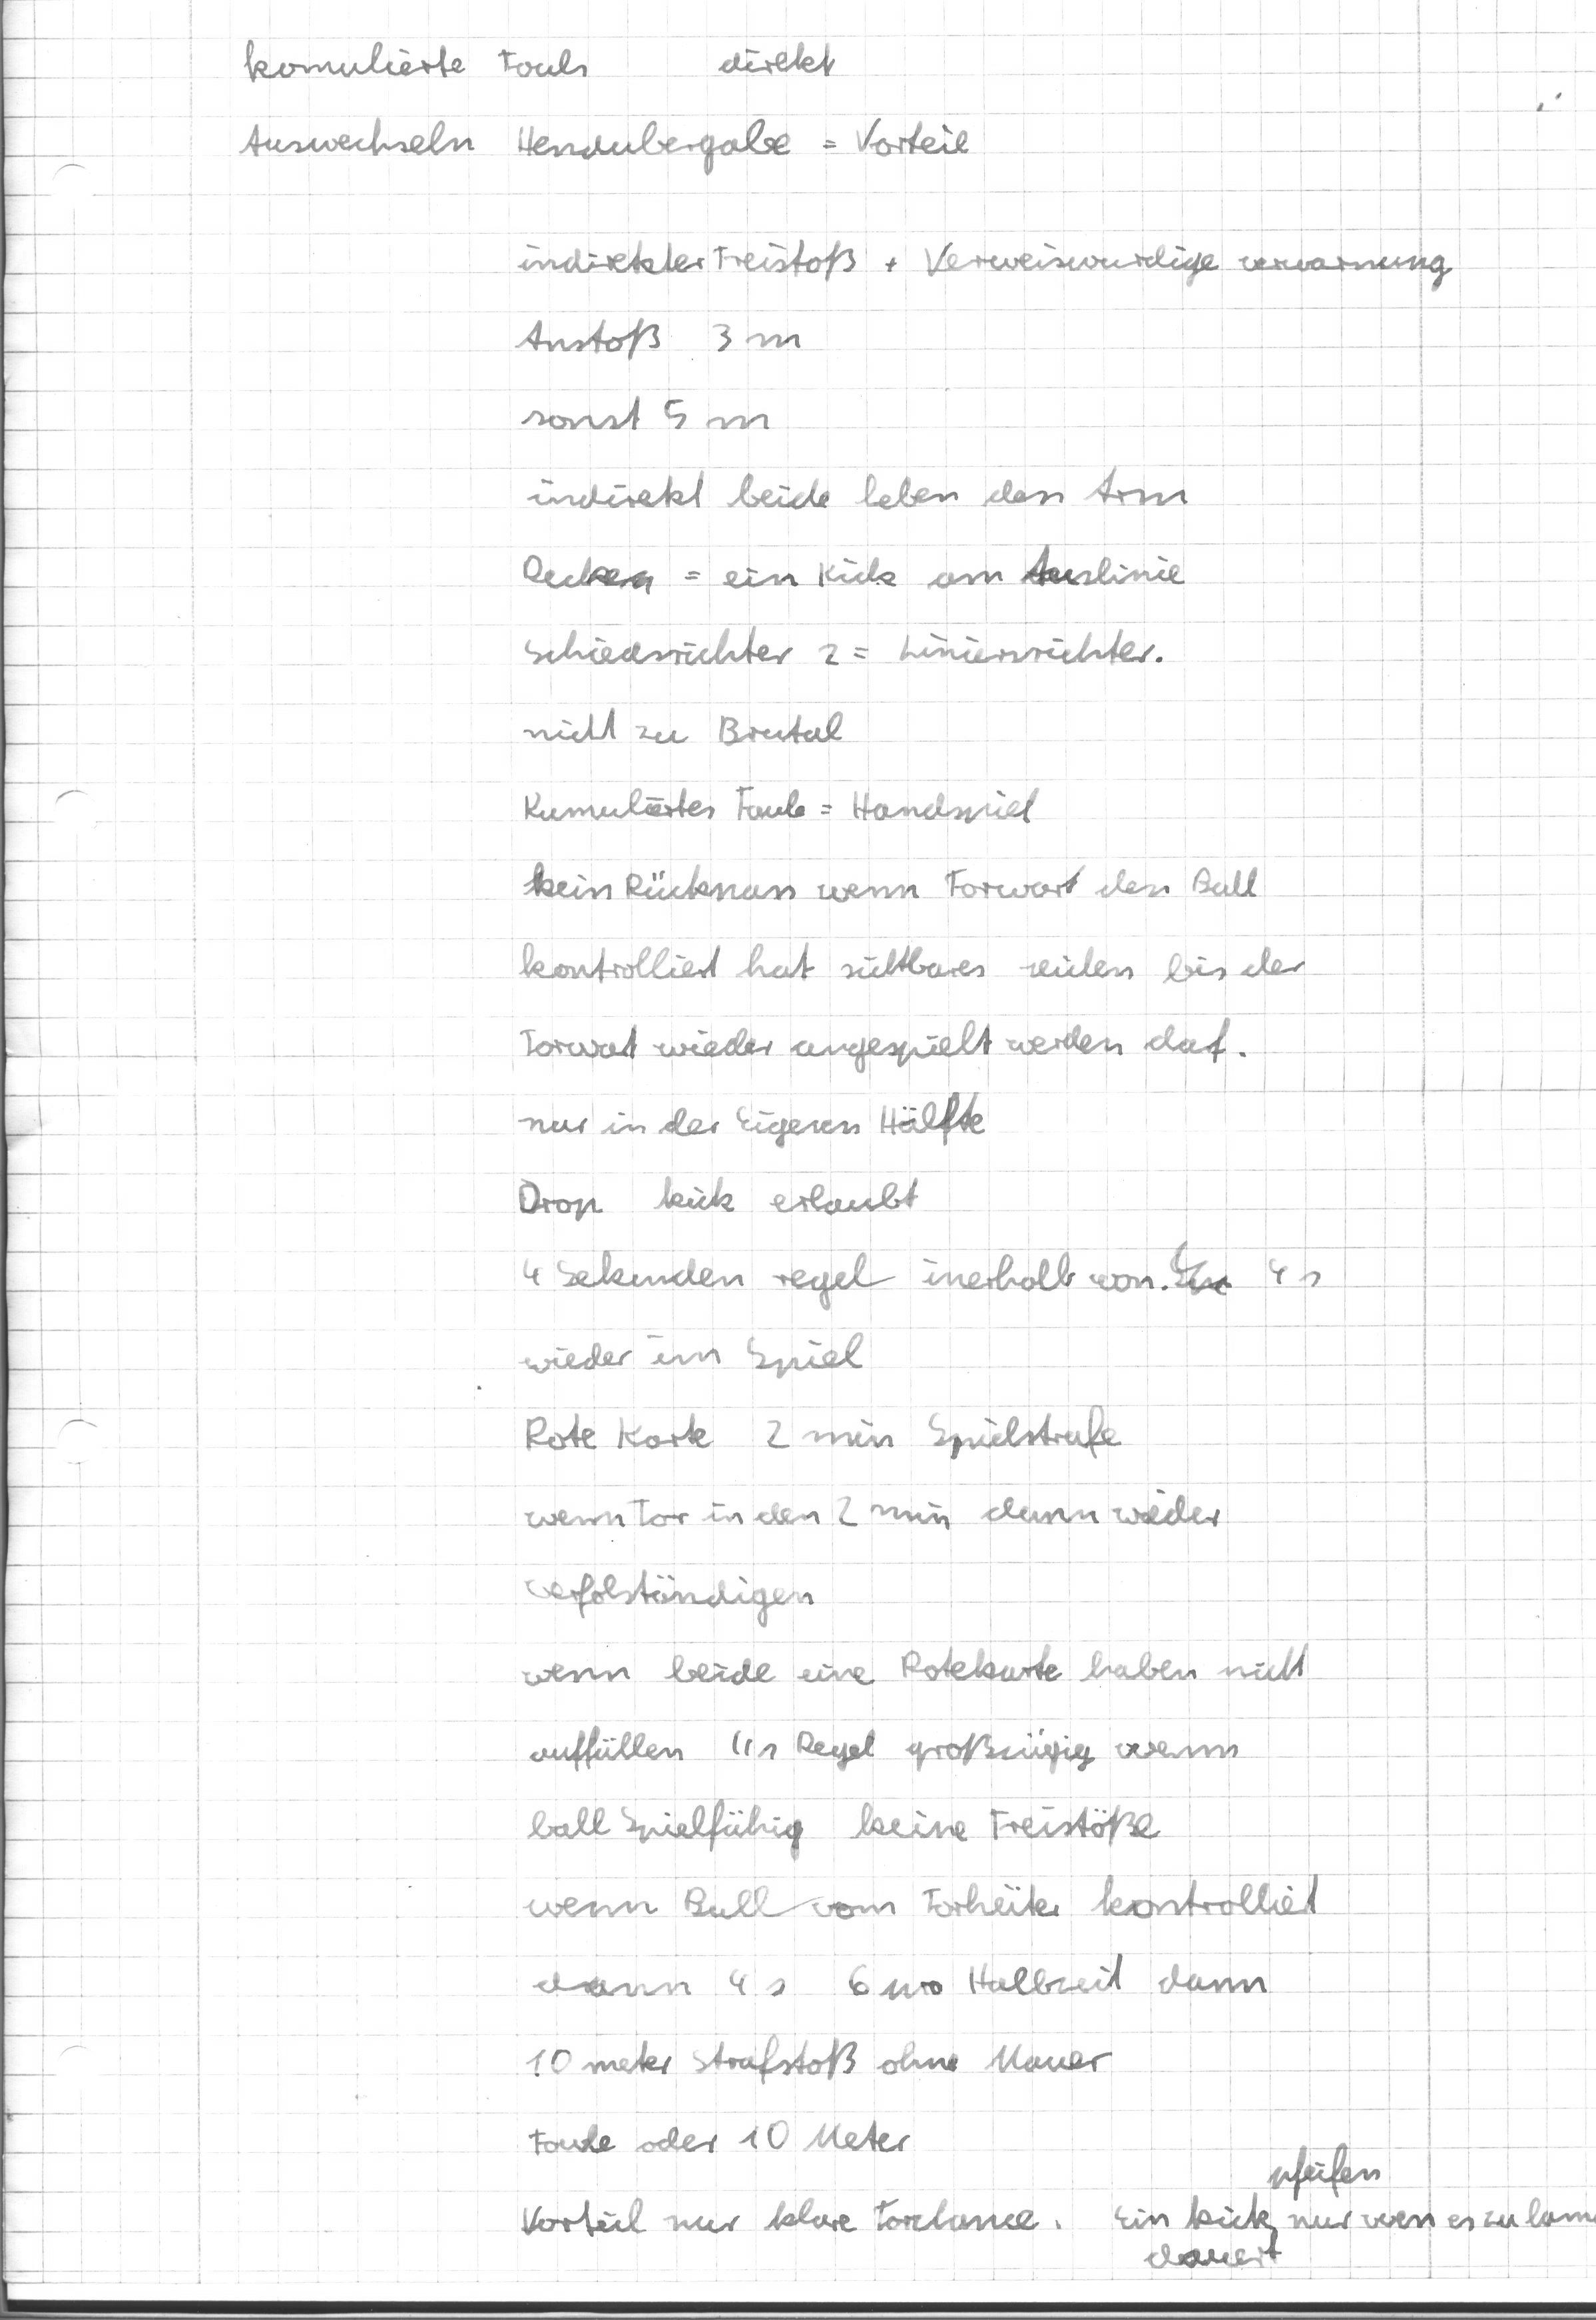word: (508, 844, 1324, 1161), (503, 1164, 1336, 1391), (514, 1861, 1327, 2092), (514, 1637, 1314, 1868), (505, 1384, 1225, 1631), (502, 460, 1201, 697), (217, 17, 993, 186), (510, 2101, 1079, 2270), (493, 680, 1073, 846), (480, 214, 1463, 310), (1107, 2135, 1595, 2294), (496, 306, 824, 447)
